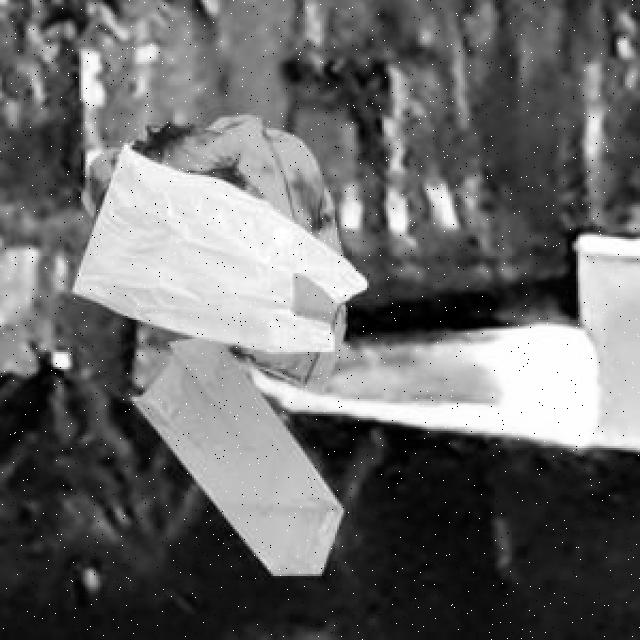plastic_bag: (88, 153, 350, 587)
